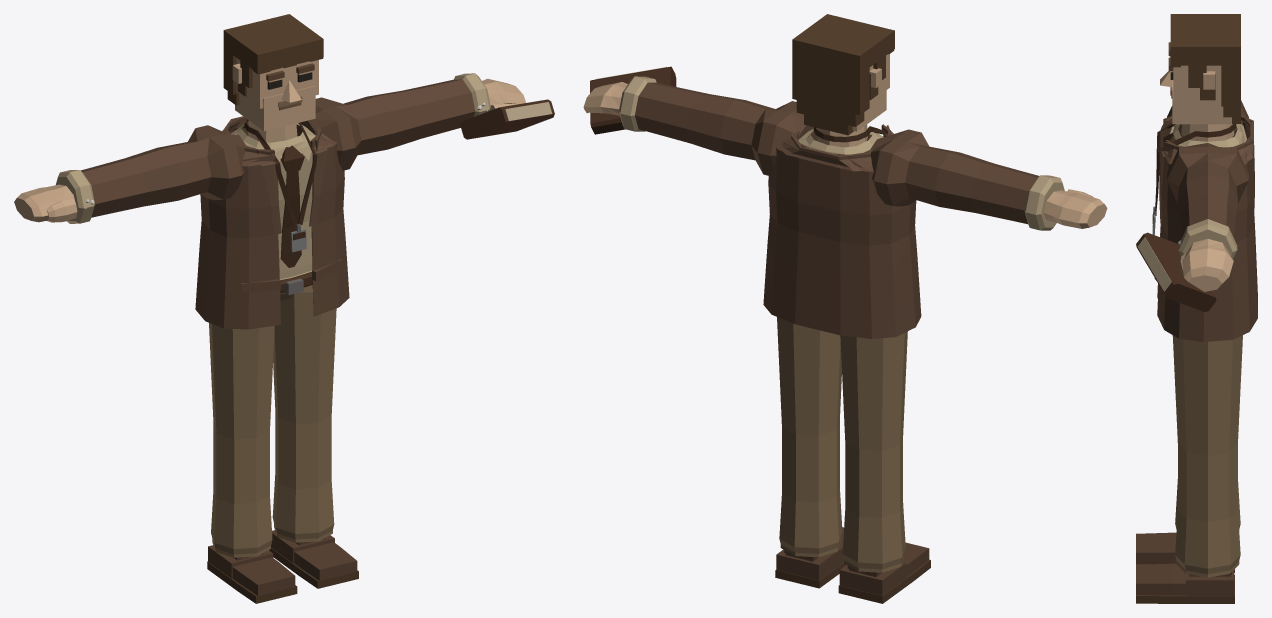
File: school-teacher-8b8bfc.glb
3 views of the same model, side by side, from view 1: azimuth 30°, elevation 25°; view 2: azimuth 150°, elevation 25°; view 3: azimuth 270°, elevation 25° (orthographic). The views are drawn at different scales.
Parts seen in each view (by area): view 1: school-teacher-8b8bfc; view 2: school-teacher-8b8bfc; view 3: school-teacher-8b8bfc.
Boxes of the visible parts, x1,y1,x2,y2 form: school-teacher-8b8bfc: (14, 14, 554, 603); school-teacher-8b8bfc: (583, 14, 1107, 603); school-teacher-8b8bfc: (1136, 14, 1257, 603).
Size of the model in its own units: 1.72 by 1.71 by 0.346.
